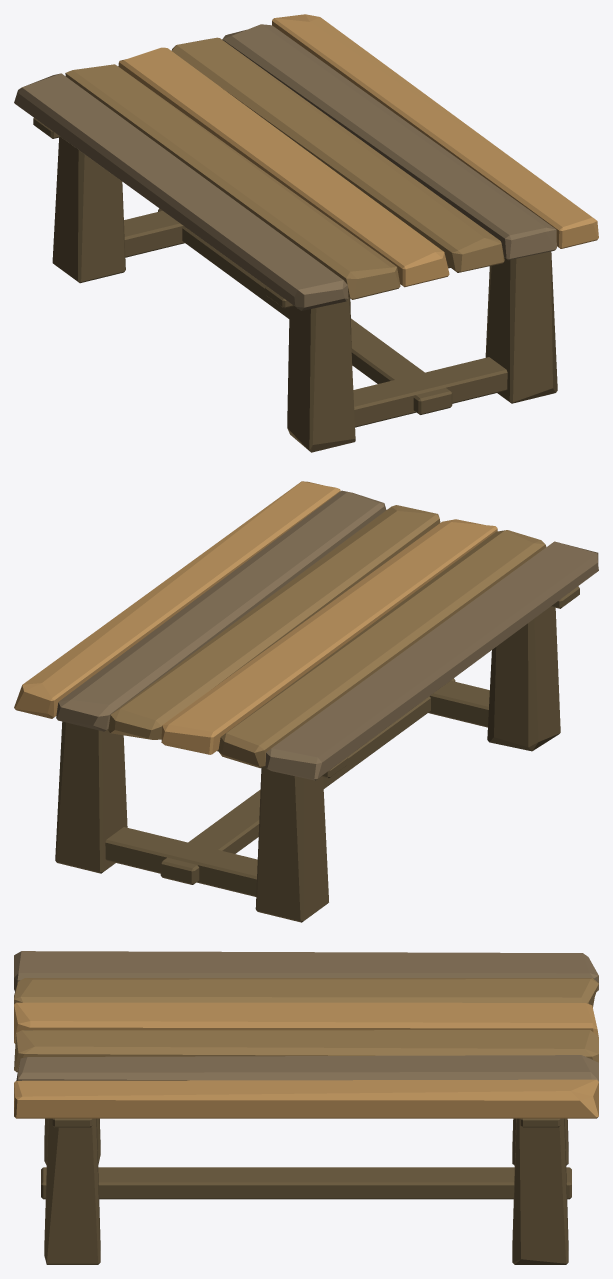
File: Table.fbx
3 views of the same model, one above another, from view 1: azimuth 30°, elevation 25°; view 2: azimuth 150°, elevation 25°; view 3: azimuth 270°, elevation 25° (orthographic).
Parts seen in each view (by area): view 1: Mesa; view 2: Mesa; view 3: Mesa.
Part boxes in pixels (x1,y1,x2,y2): Mesa: (14,14,598,452); Mesa: (14,481,598,922); Mesa: (14,951,598,1264).
Size of the model in its own units: 300 by 171 by 500.
